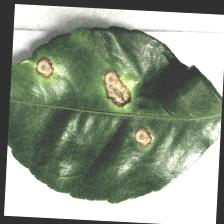canker: (33, 49, 156, 151)
